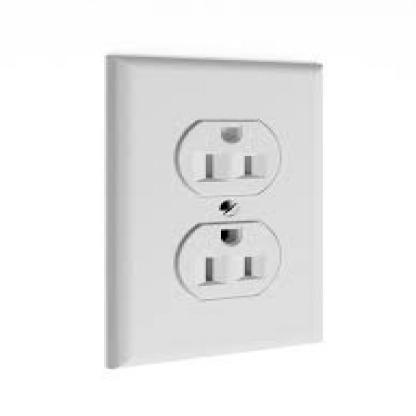OUTLET: (104, 62, 323, 369)
